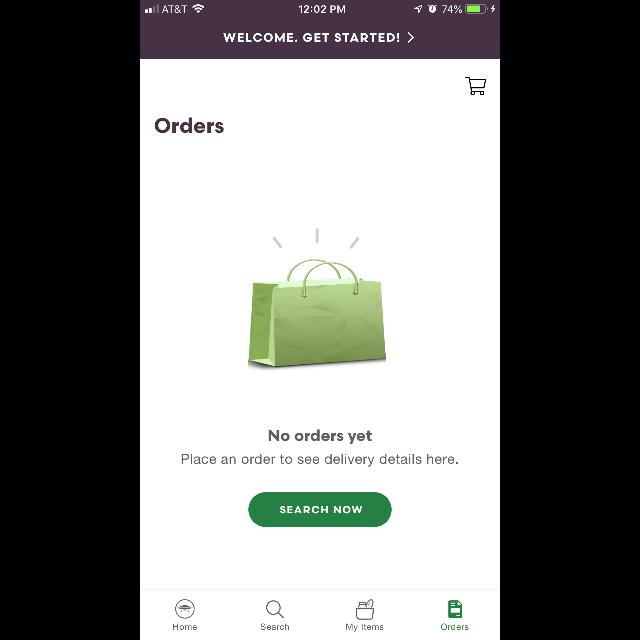icon: (466, 76, 486, 95), (266, 600, 284, 618), (449, 600, 463, 618), (408, 32, 414, 44)
image: (248, 228, 386, 368), (175, 599, 195, 619), (356, 598, 374, 620)
text: (182, 454, 458, 466), (268, 430, 372, 444), (223, 34, 399, 42), (154, 118, 223, 134), (346, 624, 384, 632), (261, 624, 289, 630), (441, 624, 469, 630), (173, 624, 197, 630)
textbutton: (248, 492, 392, 528)
uppertaskbar: (140, 0, 500, 14)
